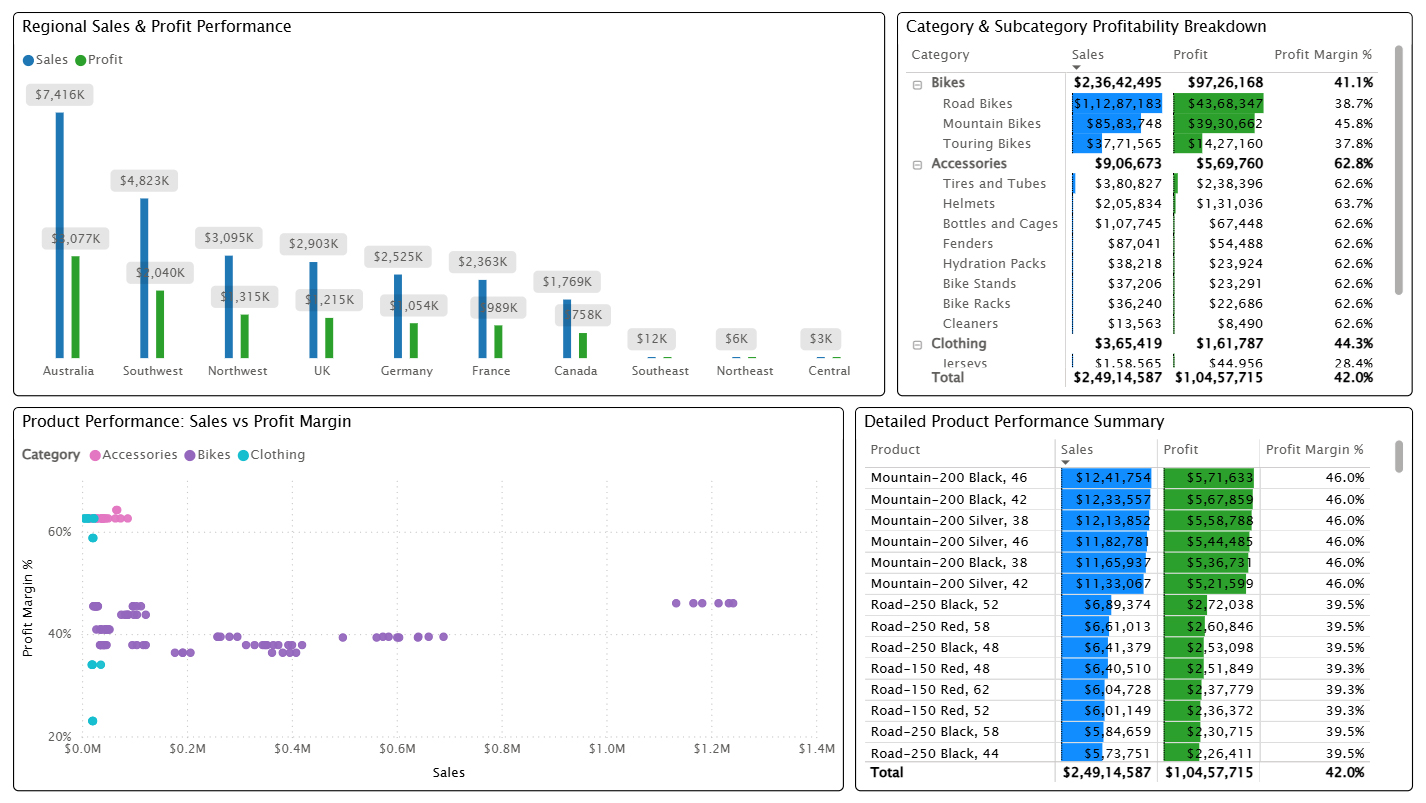

What the dashboard file says about the page in this screenshot:
{"tool":"powerbi","page":{"name":"Sales & Profit Analysis","canvas":[1280,720],"ordinal":1},"visuals":[{"type":"pivotTable","title":"Category & Subcategory Profitability Breakdown","fields":{"Values":["measure_table.Total Sales","measure_table.Total Profit","measure_table.Profit Margin %"],"Rows":["dim_product.CategoryName","dim_product.SubcategoryName"]},"box":[805.3,9.9,463.2,344.7],"z":0},{"type":"clusteredColumnChart","title":"Regional Sales & Profit Performance","fields":{"Category":["dim_territory.Region"],"Y":["measure_table.Total Sales","measure_table.Total Profit"]},"box":[11.7,9.9,782.8,344.7],"z":1000},{"type":"tableEx","title":"Detailed Product Performance Summary","fields":{"Values":["dim_product.ProductName","measure_table.Total Sales","measure_table.Total Profit","measure_table.Profit Margin %"]},"box":[767.6,364.5,500.9,344.7],"z":2000},{"type":"scatterChart","title":"Product Performance: Sales vs Profit Margin","fields":{"X":["measure_table.Total Sales"],"Y":["measure_table.Profit Margin %"],"Series":["dim_product.CategoryName"],"Category":["dim_product.ProductName"]},"box":[11.7,364.5,746,344.7],"z":3000}]}

Visuals, with their boxes in screenshot pixels (x1, y1, x2, y2), scaled from the page's 1280x720 canvas onto the 1426x803 screenshot:
"Category & Subcategory Profitability Breakdown" pivotTable: {"x1": 897, "y1": 11, "x2": 1413, "y2": 395}
"Regional Sales & Profit Performance" clusteredColumnChart: {"x1": 13, "y1": 11, "x2": 885, "y2": 395}
"Detailed Product Performance Summary" tableEx: {"x1": 855, "y1": 407, "x2": 1413, "y2": 791}
"Product Performance: Sales vs Profit Margin" scatterChart: {"x1": 13, "y1": 407, "x2": 844, "y2": 791}
